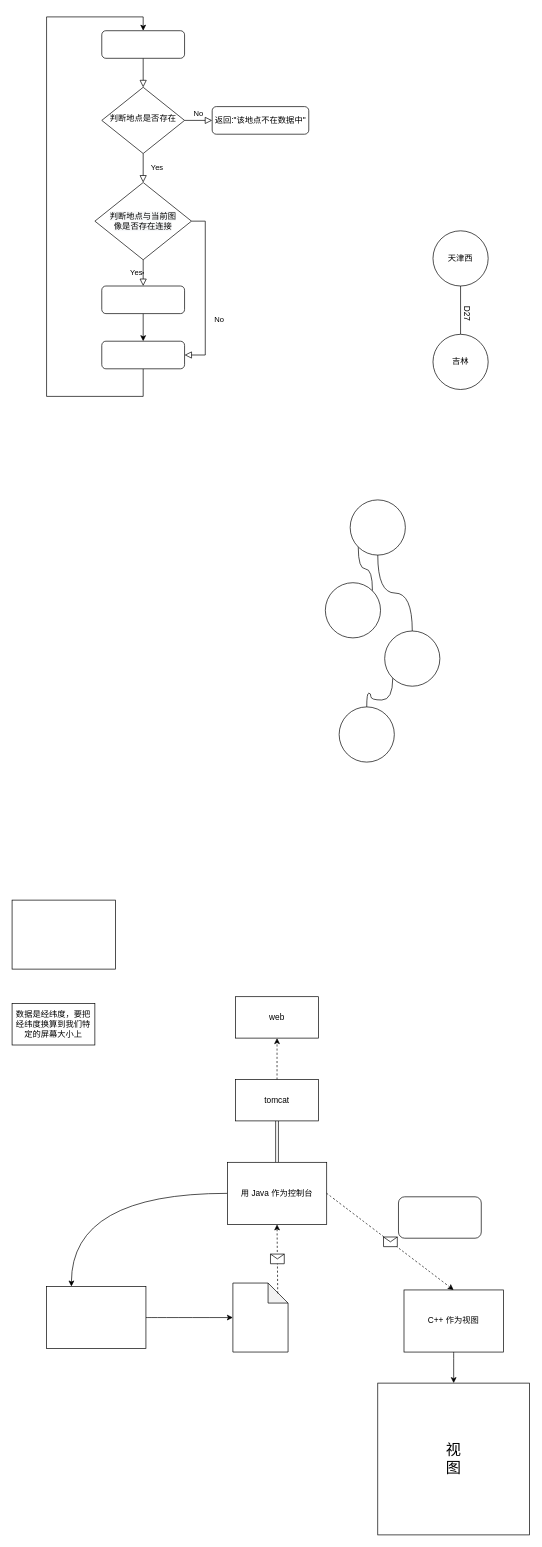
Image size: 542x1547. Some labels were removed from this diagram. Each missing label, with the centre of its shape:
C 处理数据: pixel 96 1317
圆(x,y,name)[ ]; 线(x,y,x,y,color)[ ];: pixel 439 1217
将该点与图上点以位置关系放置: pixel 143 355
数据集{ 1. 坐标 2. 城市名 3. 站点名(铁路存不存在) }: pixel 63 934
用户搜索一个地点: pixel 143 44
用沿途道路连接该点与图上点: pixel 143 299
